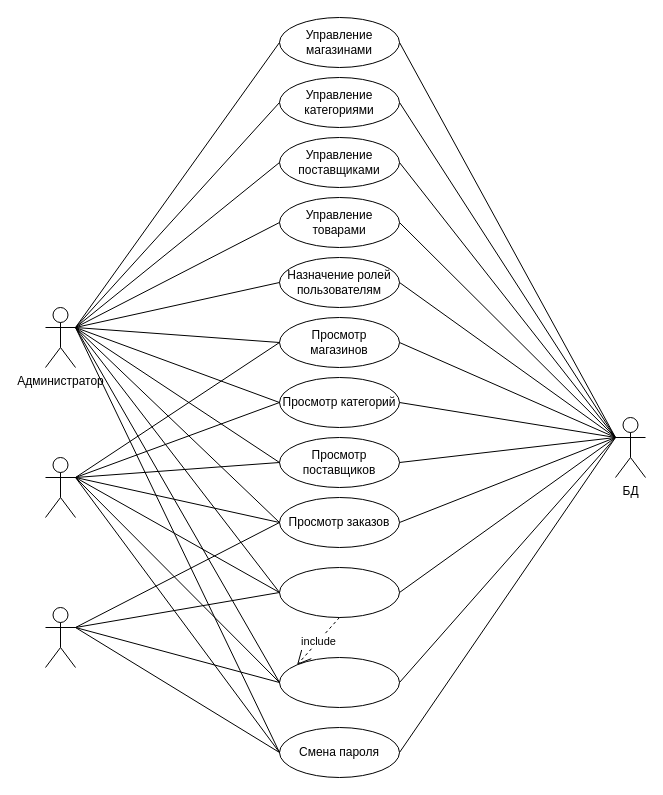
The diagram is 663 pixels wide and 795 high, and some of its shapes have lost their labels. The centre of each missing label's shape, as x and y in pixels:
"Оформление заказа" belongs at (x=339, y=682).
"Пользователь" belongs at (x=60, y=637).
"Просмотр товаров" belongs at (x=339, y=592).
"Работник" belongs at (x=60, y=487).
